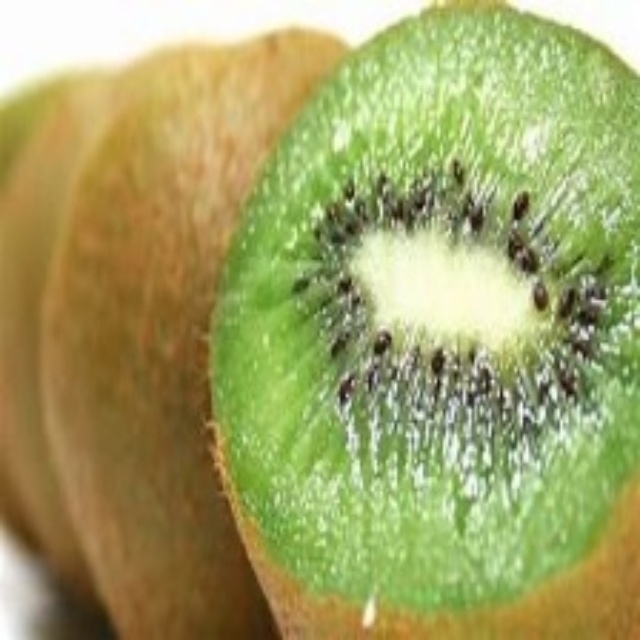kiwi: (212, 3, 638, 629), (50, 35, 358, 616)
